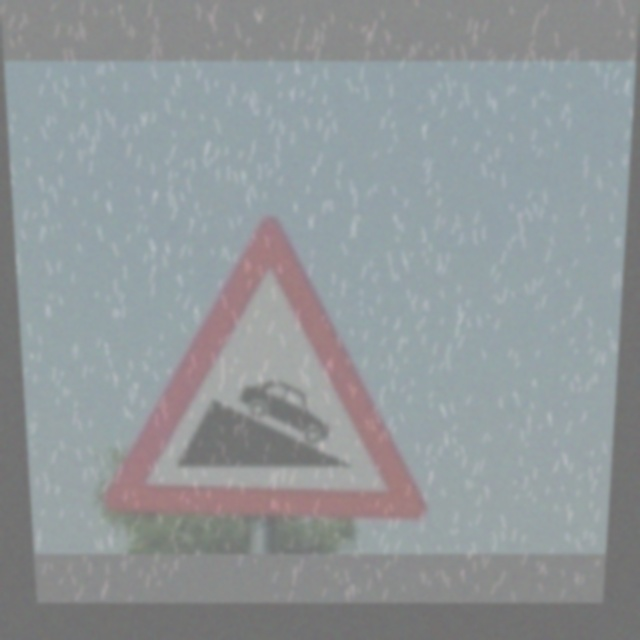Steep_Descent: (95, 221, 429, 515)
